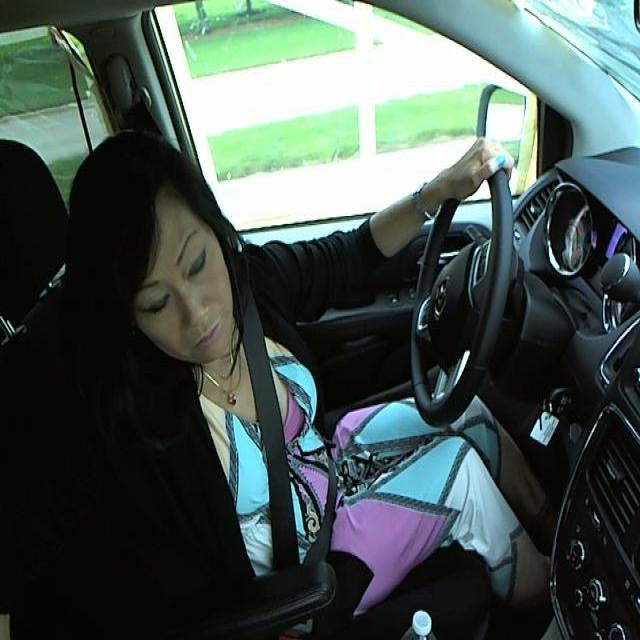seatbelt: (241, 312, 347, 555)
